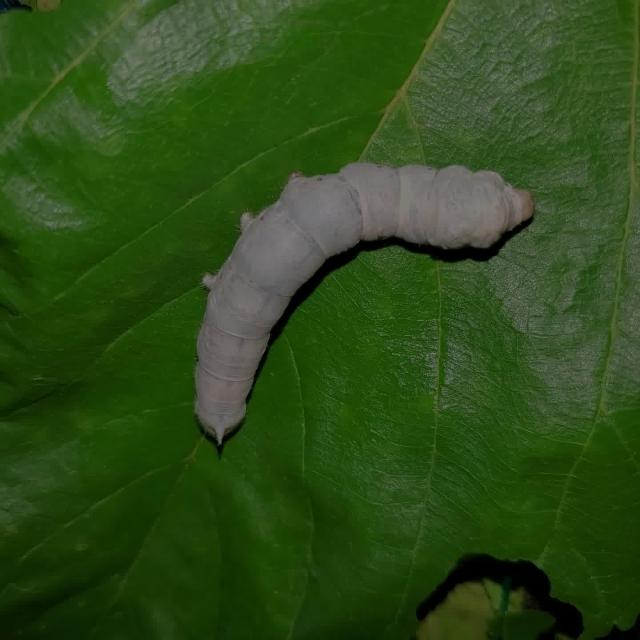Healthy: (173, 136, 544, 446)
